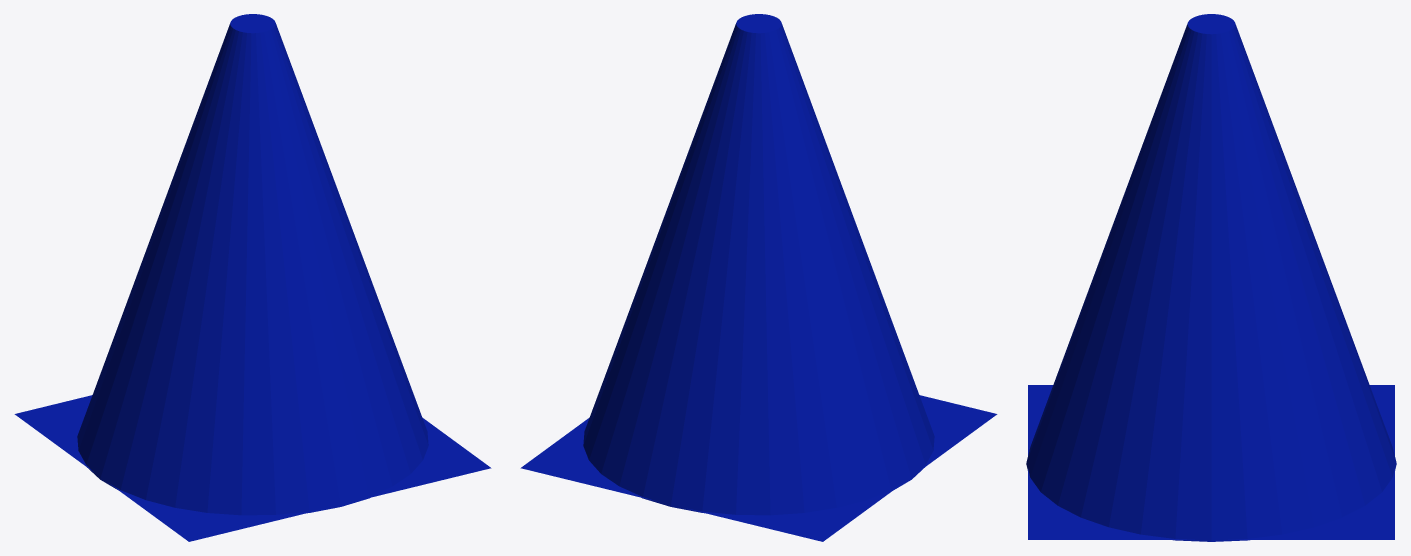
Rendered from cone_separado.fbx.
The picture shows the model from 3 angles, left to right: view 1: azimuth 30°, elevation 25°; view 2: azimuth 150°, elevation 25°; view 3: azimuth 270°, elevation 25°; orthographic projection. The views are drawn at different scales.
Visible parts, largest first — view 1: cones.001; view 2: cones.001; view 3: cones.001.
Boxes of the visible parts, box(x1,y1,x2,y2) form: cones.001: box(14, 14, 491, 541); cones.001: box(520, 14, 997, 541); cones.001: box(1026, 14, 1396, 541).
Size of the model in its own units: 689 by 902 by 689.
